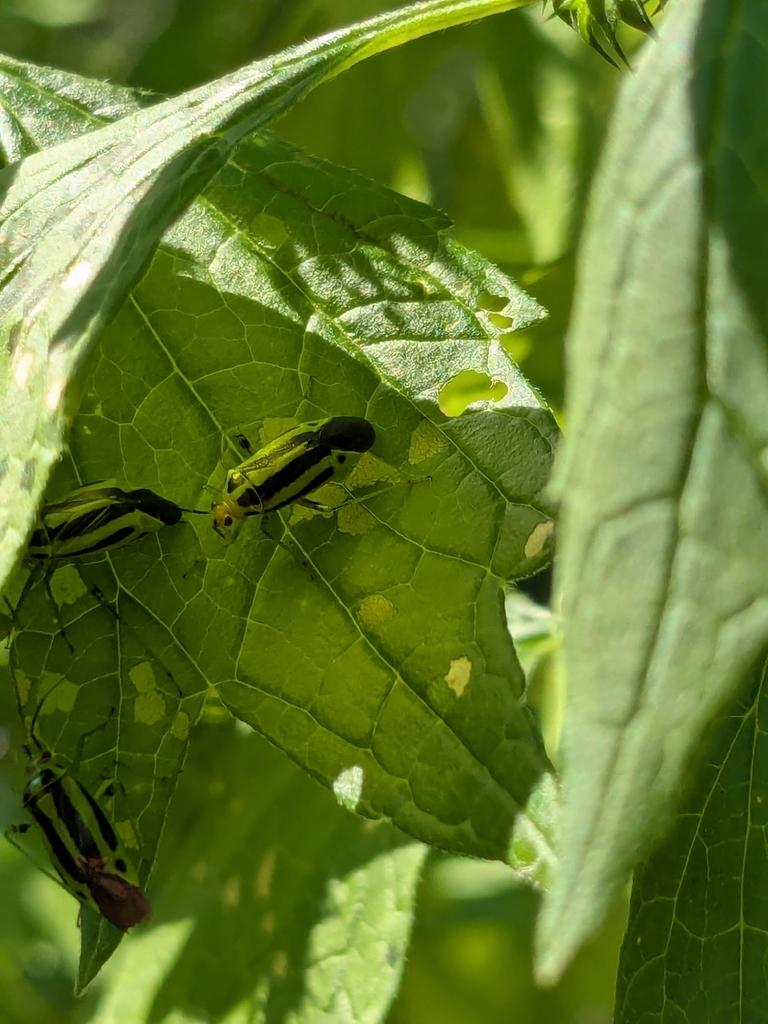plant_bugs: (181, 379, 409, 567), (0, 727, 174, 930), (0, 431, 204, 594)
